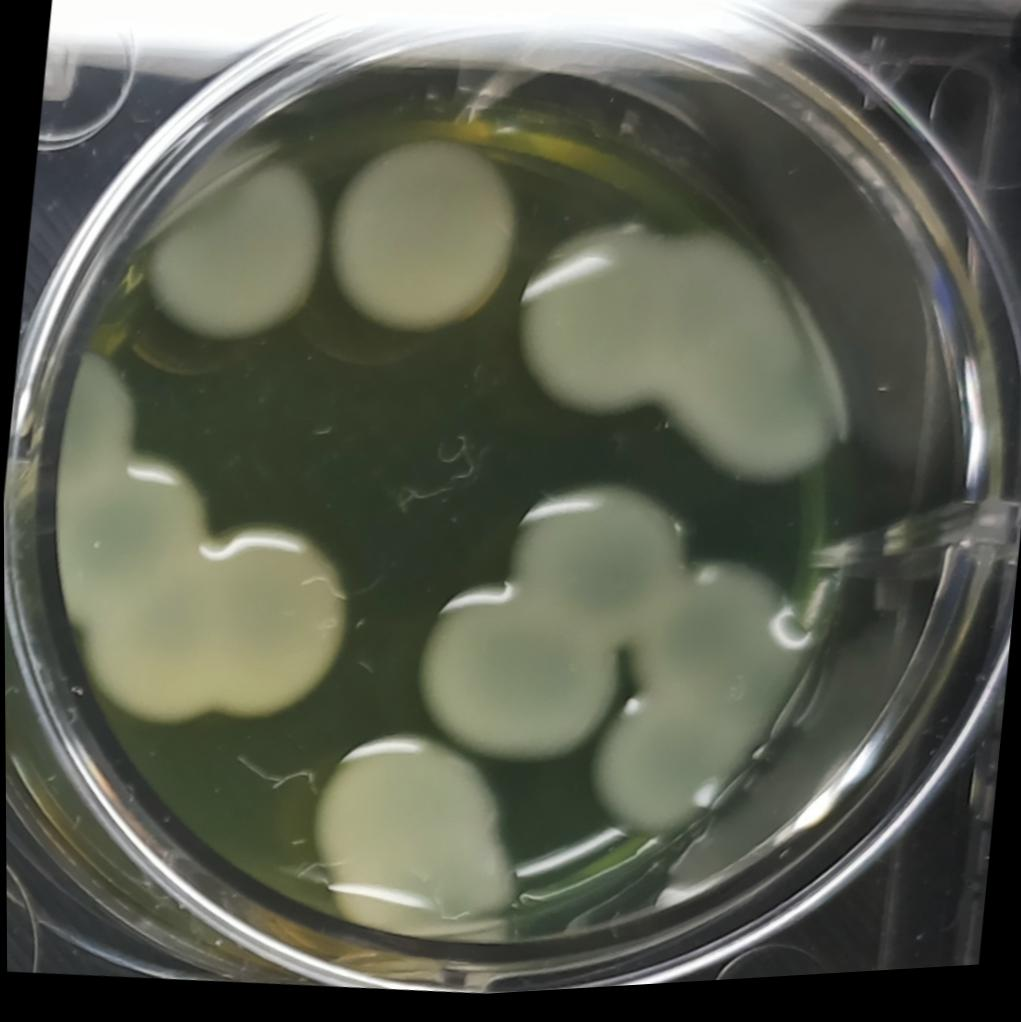valgino: (15, 329, 380, 751), (493, 203, 866, 522), (404, 465, 695, 797), (564, 537, 826, 879), (296, 728, 544, 964), (315, 124, 546, 365), (133, 149, 343, 363)
